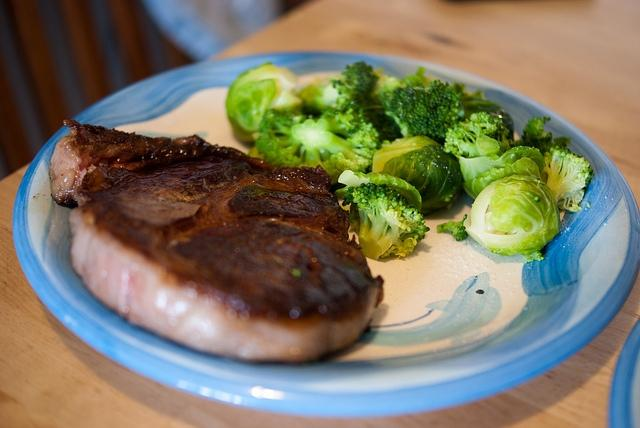broccoli: (255, 98, 382, 194), (342, 182, 431, 261), (377, 79, 466, 146), (542, 144, 594, 212), (444, 111, 511, 159), (332, 61, 384, 109), (508, 116, 556, 156), (437, 214, 468, 240)
brussels sprouts: (464, 174, 560, 256), (372, 135, 463, 214), (226, 62, 304, 144), (458, 146, 546, 200), (334, 170, 422, 213), (296, 83, 340, 106)
